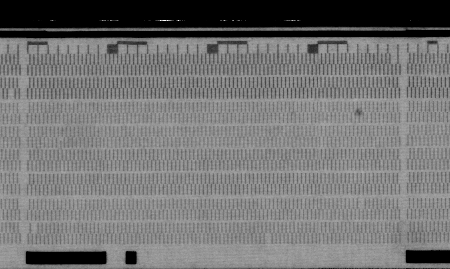Broken hole: (27, 223, 40, 235), (356, 196, 368, 209), (6, 87, 17, 101), (262, 233, 274, 245), (388, 53, 400, 64)
